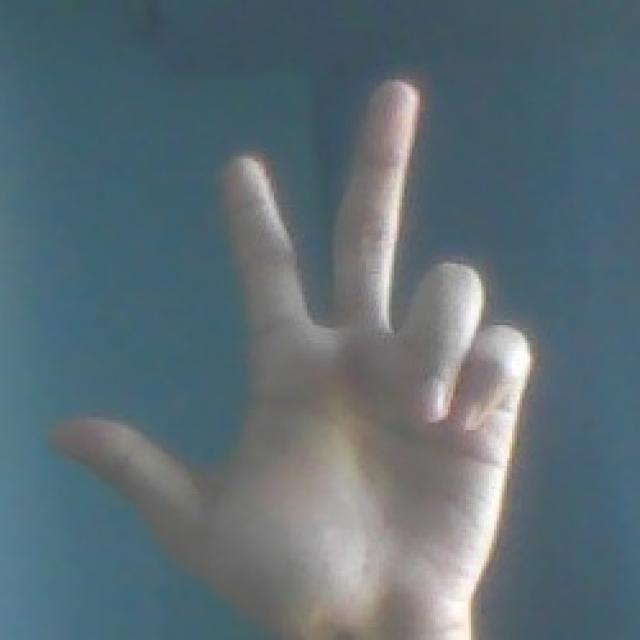Numeric-3: (54, 79, 527, 640)
